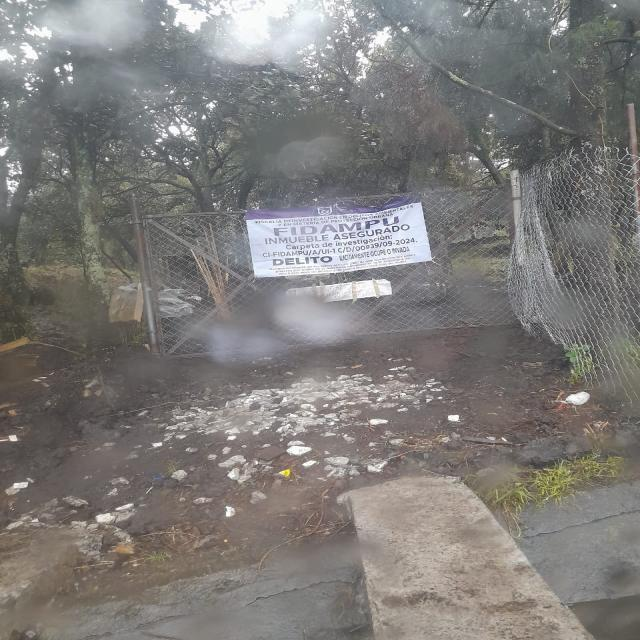stamps: (246, 196, 428, 277)
